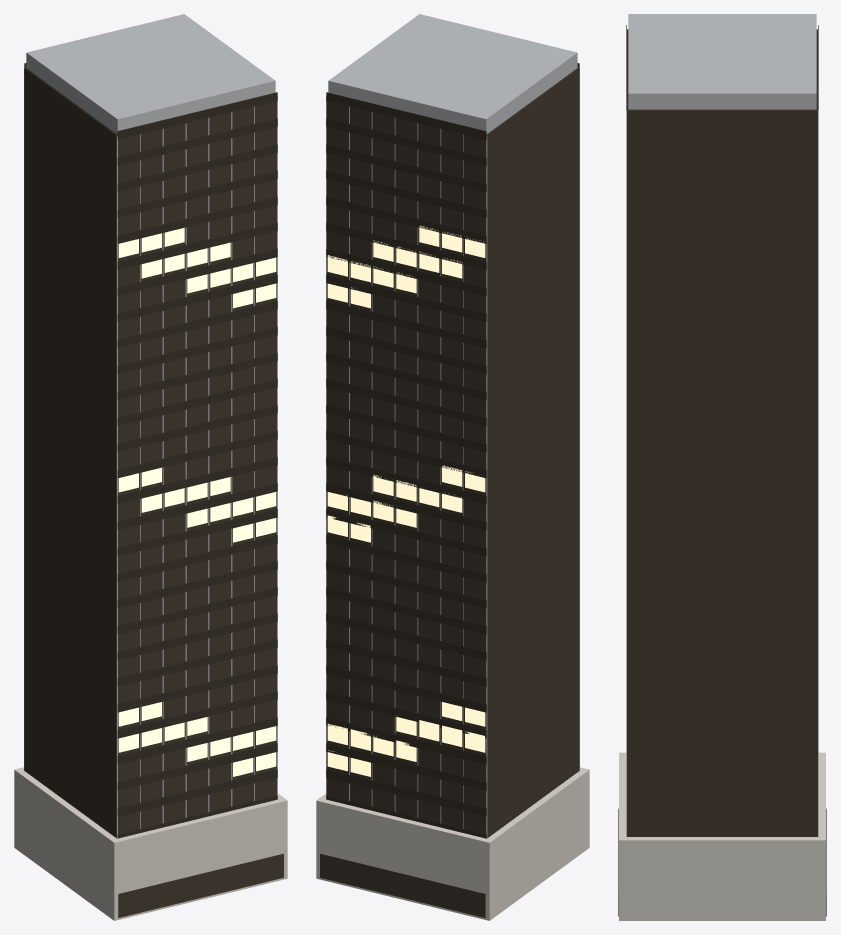
The model's file is tower_office_bronze_30.glb.
3 views of the same model, side by side, from view 1: azimuth 30°, elevation 25°; view 2: azimuth 150°, elevation 25°; view 3: azimuth 270°, elevation 25° (orthographic). The views are drawn at different scales.
Visible parts, largest first — view 1: tower_office_bronze_30; view 2: tower_office_bronze_30; view 3: tower_office_bronze_30.
Boxes of the visible parts, x1,y1,x2,y2 form: tower_office_bronze_30: (14,14,287,920); tower_office_bronze_30: (316,14,589,920); tower_office_bronze_30: (618,14,826,920).
Bounding box in the file's own units: 25.8 × 113 × 25.94.
